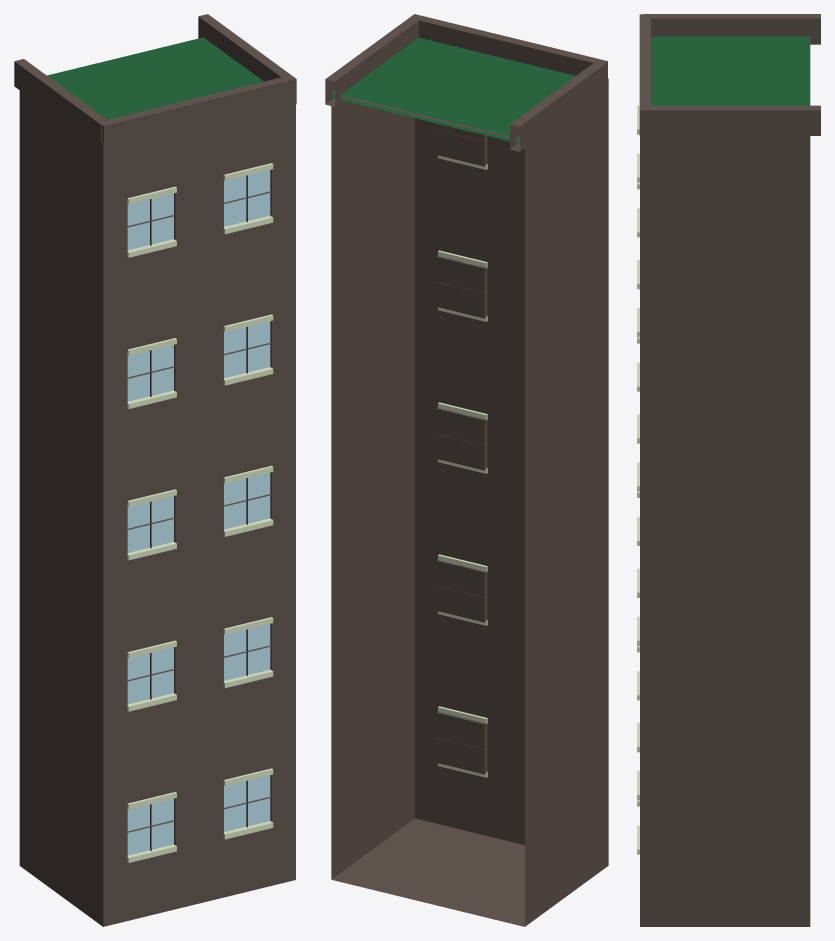
File: B5-Pipe_L.glb
3 renders of one model, left to right at view 1: azimuth 30°, elevation 25°; view 2: azimuth 150°, elevation 25°; view 3: azimuth 270°, elevation 25°, orthographic. The views are drawn at different scales.
Visible parts, largest first — view 1: B5-Pipe_L; view 2: B5-Pipe_L; view 3: B5-Pipe_L.
Boxes of the visible parts, box(x1,y1,x2,y2) form: B5-Pipe_L: box(14, 14, 296, 926); B5-Pipe_L: box(325, 14, 608, 926); B5-Pipe_L: box(637, 14, 820, 926).
Size of the model in its own units: 40.16 by 159 by 32.4.
